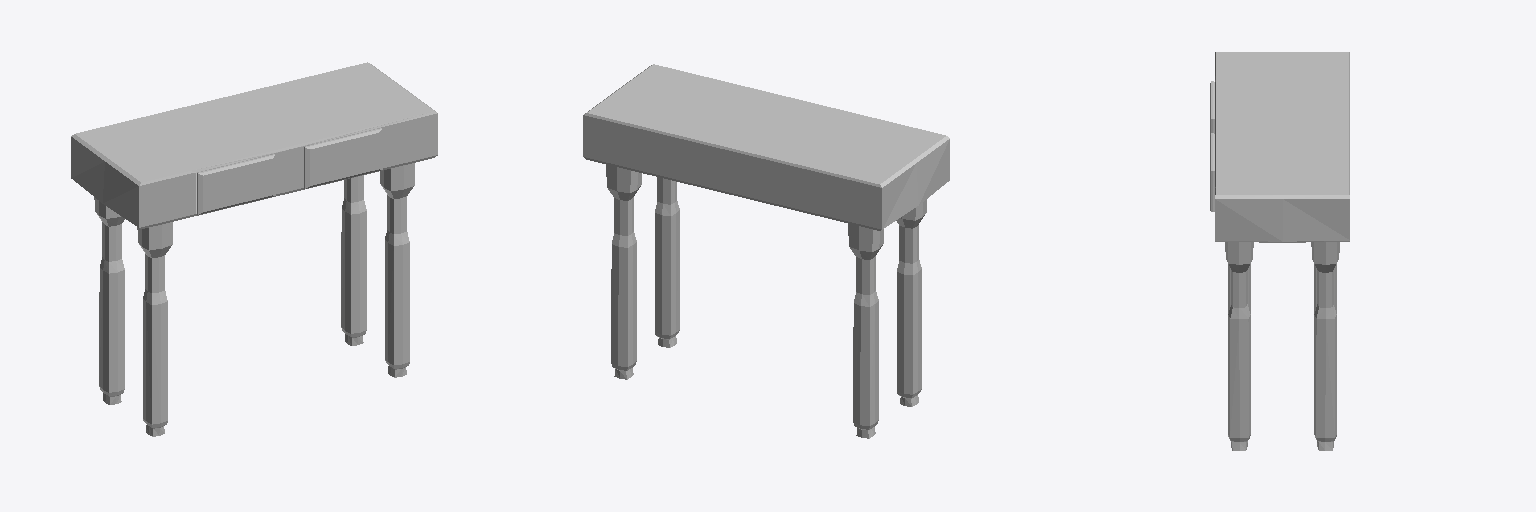
File: Sideboard.obj
3 views of the same model, side by side, from view 1: azimuth 30°, elevation 25°; view 2: azimuth 150°, elevation 25°; view 3: azimuth 270°, elevation 25° (orthographic).
Visible parts, largest first — view 1: Sideboard; view 2: Sideboard; view 3: Sideboard.
Part boxes in pixels (left/top/right/bottom): Sideboard: left=71, top=62, right=437, bottom=436; Sideboard: left=583, top=64, right=949, bottom=438; Sideboard: left=1210, top=52, right=1349, bottom=450.
Size of the model in its own units: 1.44 by 1.2 by 0.5778.